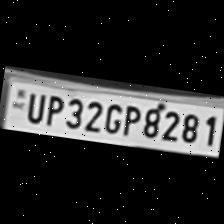1: (199, 110, 221, 146)
2: (80, 95, 104, 132), (158, 105, 182, 142)
3: (62, 92, 86, 129)
8: (176, 107, 202, 143), (138, 102, 162, 139)
G: (101, 98, 124, 134)
P: (119, 99, 142, 138), (41, 89, 65, 126)
U: (22, 88, 44, 122)
